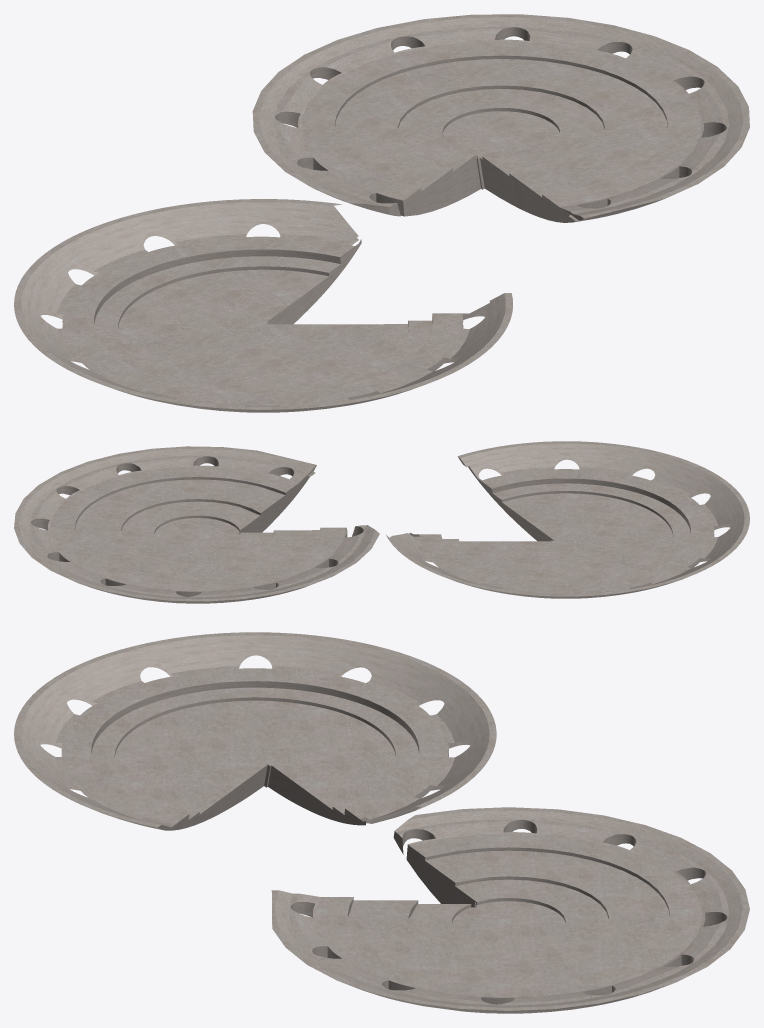
The model's file is DiskTrim.fbx.
The picture shows the model from 3 angles, top to bottom: view 1: azimuth 30°, elevation 25°; view 2: azimuth 150°, elevation 25°; view 3: azimuth 270°, elevation 25°; orthographic projection. The views are drawn at different scales.
Parts seen in each view (by area): view 1: 物件_1, 物件_2; view 2: 物件_1, 物件_2; view 3: 物件_2, 物件_1.
Boxes of the visible parts, x1=… form: 物件_1: x1=252, y1=14, x2=749, y2=222; 物件_2: x1=14, y1=199, x2=512, y2=412; 物件_1: x1=14, y1=446, x2=379, y2=603; 物件_2: x1=386, y1=441, x2=749, y2=598; 物件_2: x1=14, y1=632, x2=496, y2=830; 物件_1: x1=271, y1=807, x2=749, y2=1013.
Size of the model in its own units: 48.34 by 2.93 by 39.79.
1 material, 1 textured.
